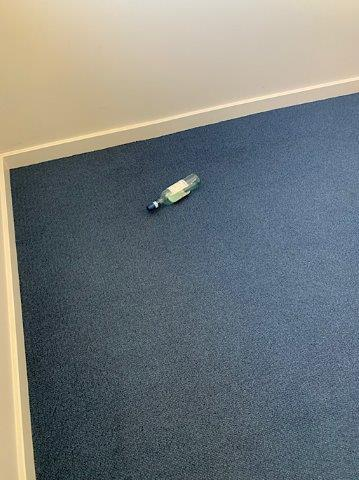botolkaca: (146, 173, 204, 211)
